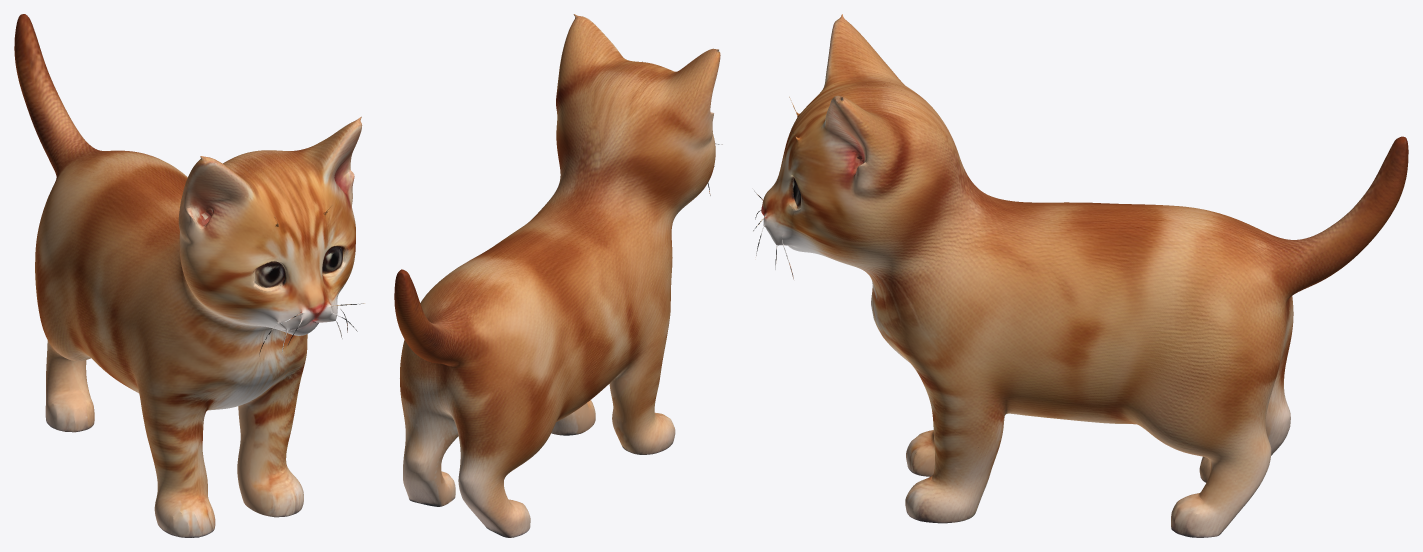
The model's file is cat.glb.
The picture shows the model from 3 angles, left to right: view 1: azimuth 30°, elevation 25°; view 2: azimuth 150°, elevation 25°; view 3: azimuth 270°, elevation 25°; orthographic projection. The views are drawn at different scales.
Visible parts, largest first — view 1: model; view 2: model; view 3: model.
Boxes of the visible parts, x1,y1,x2,y2 form: model: (14, 14, 364, 537); model: (394, 14, 722, 537); model: (752, 14, 1408, 537).
Size of the model in its own units: 0.6197 by 1.4 by 1.9.
1 material, 1 textured.
